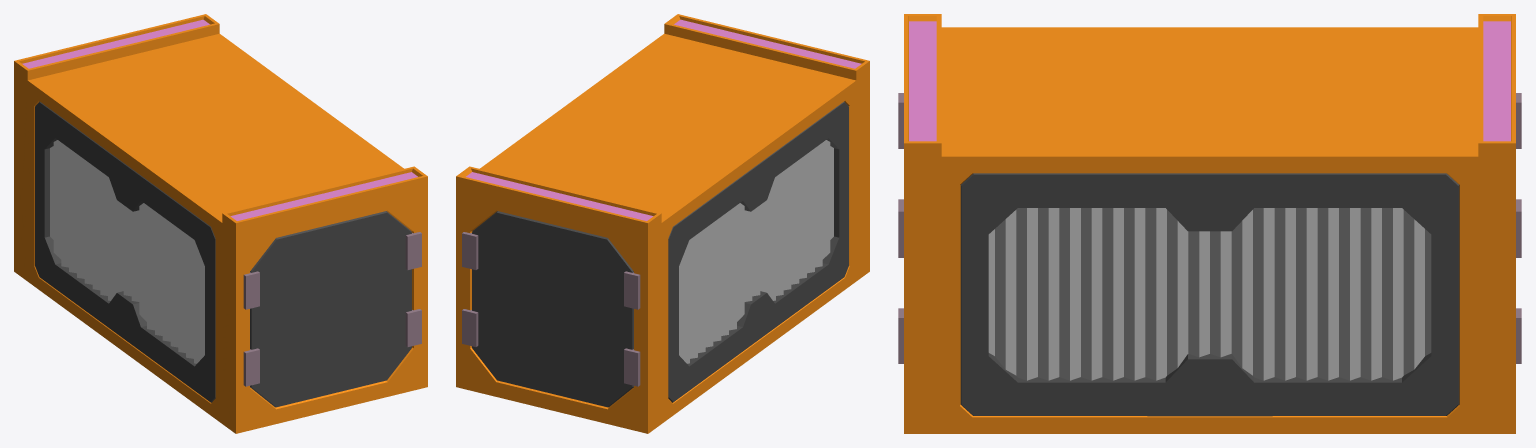
3 renders of one model, left to right at view 1: azimuth 30°, elevation 25°; view 2: azimuth 150°, elevation 25°; view 3: azimuth 270°, elevation 25°, orthographic. The views are drawn at different scales.
Parts seen in each view (by area): view 1: SM_Box02; view 2: SM_Box02; view 3: SM_Box02.
Part boxes in pixels (x1=…): SM_Box02: x1=14, y1=14, x2=427, y2=433; SM_Box02: x1=456, y1=14, x2=869, y2=433; SM_Box02: x1=898, y1=14, x2=1521, y2=433.
Size of the model in its own units: 60 by 62.89 by 122.
